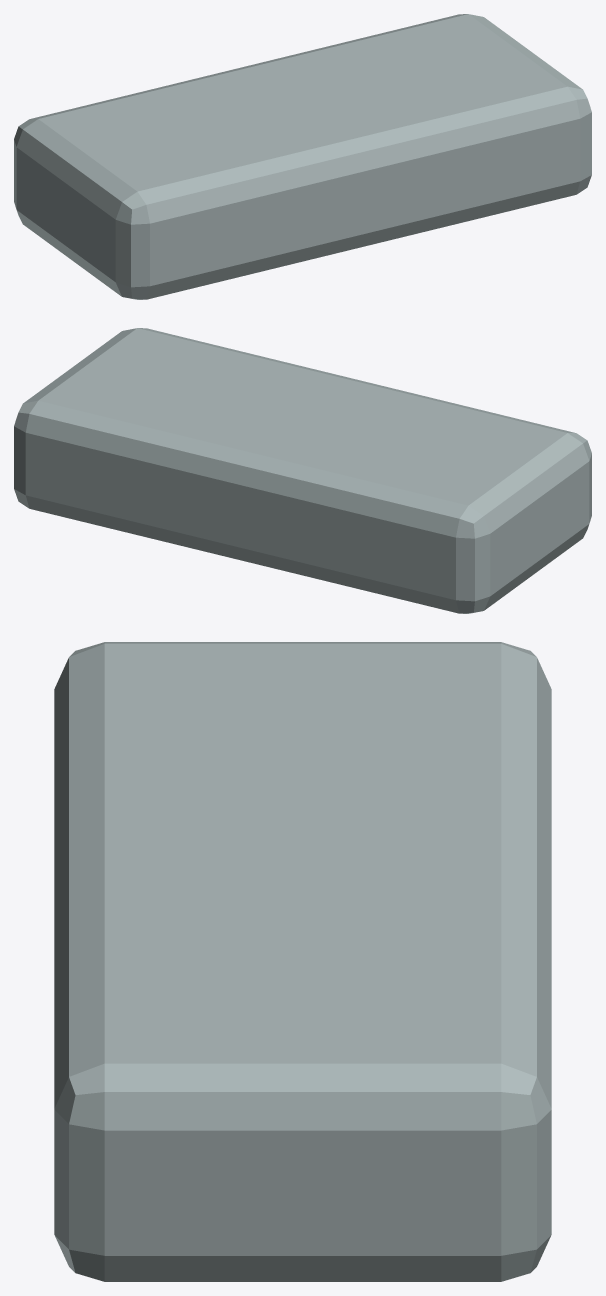
The model's file is SilverBlock.fbx.
3 renders of one model, top to bottom at view 1: azimuth 30°, elevation 25°; view 2: azimuth 150°, elevation 25°; view 3: azimuth 270°, elevation 25°, orthographic. The views are drawn at different scales.
Parts seen in each view (by area): view 1: Cube; view 2: Cube; view 3: Cube.
Boxes of the visible parts, x1=… form: Cube: x1=14, y1=14, x2=591, y2=299; Cube: x1=14, y1=328, x2=591, y2=613; Cube: x1=54, y1=642, x2=551, y2=1281.
Size of the model in its own units: 0.3168 by 0.0692 by 0.144.
